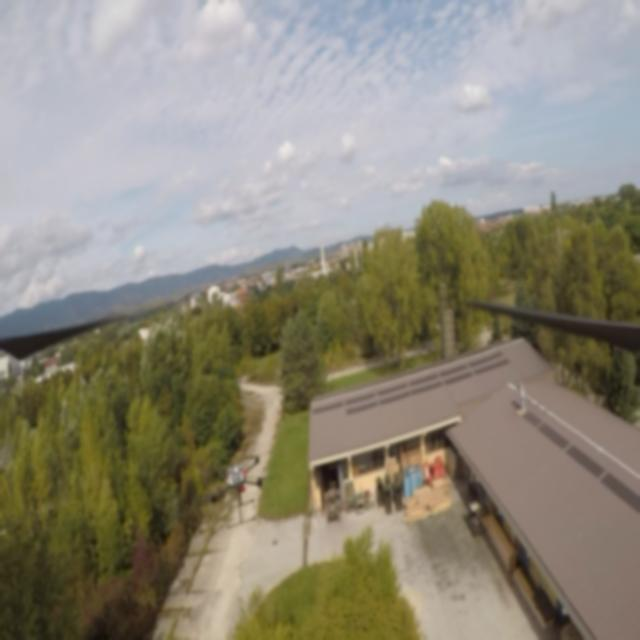UAV: (204, 446, 274, 531)
